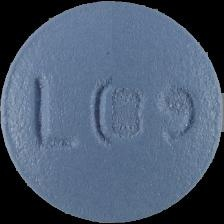61786-808: (0, 0, 224, 224)
